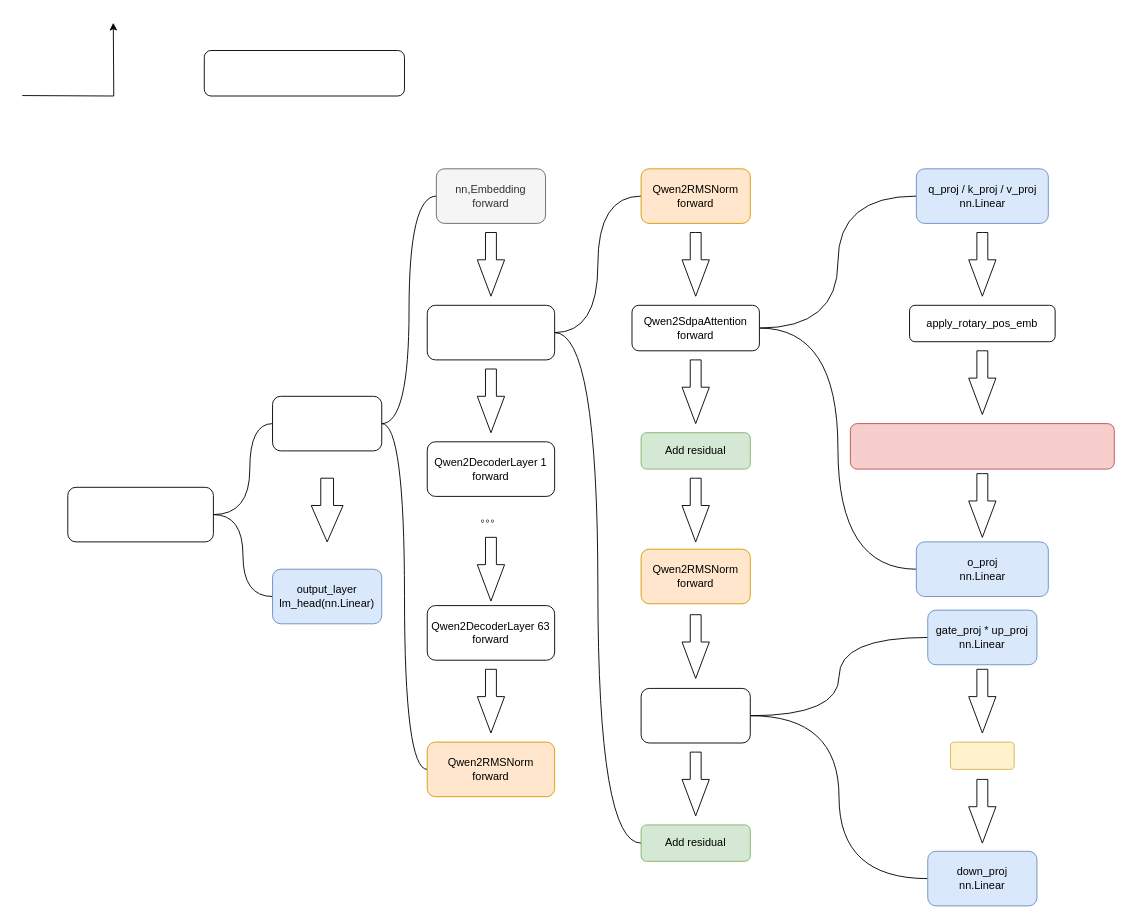
Some shapes in this 1130 by 922 pixel diagram are drawn without their labels. The shapes that lost their labels are listed below. From the top down, each one's centre as x and y in pixels, then its label:
pixel 303 73: QWEN2_ATTENTION_CLASSES forward
pixel 490 332: Qwen2DecoderLayer 0 forward
pixel 327 423: Qwen2Model forward
pixel 981 446: torch.nn.functional.scaled_dot_product_attention
pixel 140 514: Qwen2ForCasualLM forward
pixel 695 715: Qwen2MLP forward
pixel 982 755: silu
